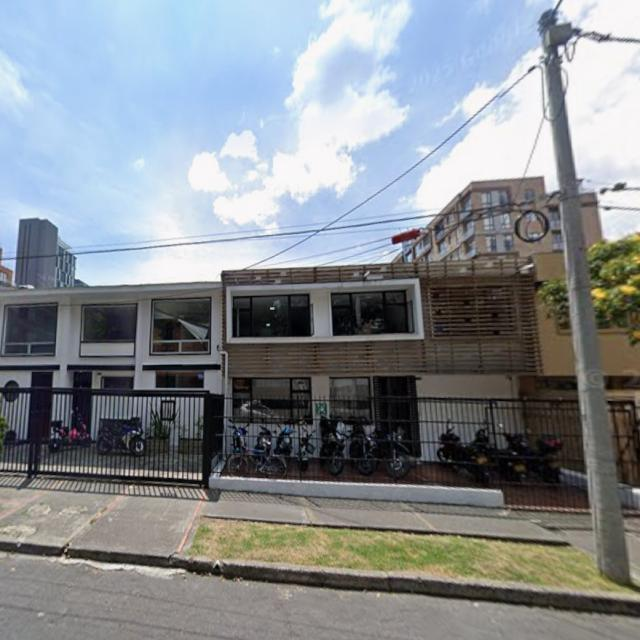fachada: (222, 268, 533, 512), (0, 283, 222, 392), (395, 177, 563, 261), (16, 219, 76, 288), (0, 248, 13, 287)
poste: (540, 11, 630, 584)
